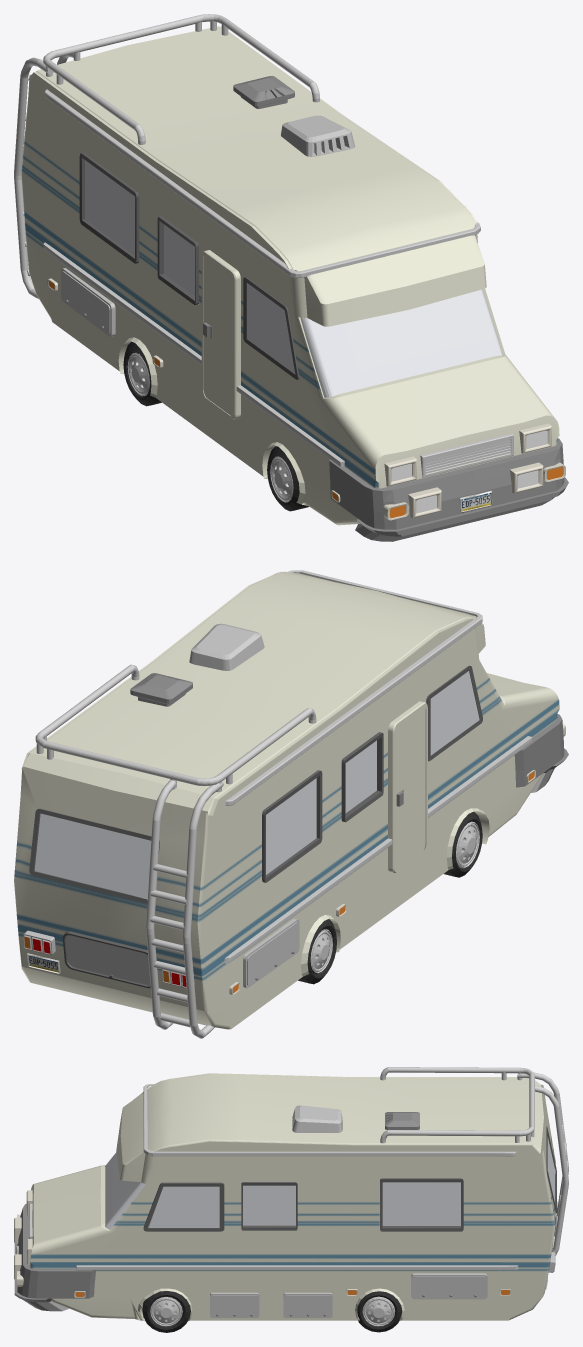
Rendered from ExportVan3.4.fbx.
3 renders of one model, top to bottom at view 1: azimuth 30°, elevation 25°; view 2: azimuth 150°, elevation 25°; view 3: azimuth 270°, elevation 25°, orthographic. The views are drawn at different scales.
Parts seen in each view (by area): view 1: bodycar2, pCube18, pCube3, pCube25, pCube54, pCylinder16, pCube22, pCube64, pCube23, pCube72, pCube16, pCylinder1 (+10 smaller); view 2: bodycar2, pCube21, pCube25, pCylinder16, pCube54, pCube34, pCube22, pCube64, pCube23, pCube72, pCylinder1, pCube3 (+13 smaller); view 3: bodycar2, pCube69, pCube3, pCube20, pCube26, pCube54, pCylinder16, pCube71, pCube51, pCube18, pCube72, pCube52 (+12 smaller).
Boxes of the visible parts, box(x1,y1,x2,y2) form: bodycar2: box(21, 26, 559, 525); pCube18: box(300, 289, 502, 397); pCube3: box(329, 438, 568, 541); pCube25: box(201, 250, 240, 419); pCube54: box(44, 89, 480, 278); pCylinder16: box(43, 14, 319, 144); pCube22: box(85, 160, 134, 255); pCube64: box(43, 242, 344, 467); pCube23: box(247, 283, 295, 373); pCube72: box(281, 115, 355, 156); pCube16: box(420, 433, 513, 477); pCylinder1: box(14, 57, 53, 298); bodycar2: box(14, 571, 559, 1029); pCube21: box(34, 813, 151, 898); pCube25: box(388, 701, 427, 872); pCylinder16: box(35, 664, 316, 785); pCube54: box(225, 570, 482, 805); pCube34: box(62, 931, 150, 988); pCube22: box(266, 778, 316, 874); pCube64: box(224, 736, 531, 963); pCube23: box(430, 671, 479, 755); pCube72: box(189, 623, 264, 670); pCylinder1: box(182, 781, 223, 1038); pCube3: box(514, 714, 568, 792); bodycar2: box(29, 1073, 555, 1321); pCube69: box(379, 1180, 460, 1228); pCube3: box(14, 1204, 95, 1311); pCube20: box(148, 1186, 219, 1227); pCube26: box(76, 1265, 518, 1270); pCube54: box(143, 1084, 516, 1156); pCylinder16: box(380, 1067, 534, 1143); pCube71: box(243, 1185, 295, 1225); pCube51: box(411, 1273, 487, 1299); pCube18: box(105, 1152, 145, 1229); pCube72: box(292, 1105, 342, 1132); pCube52: box(283, 1292, 332, 1317).
Bounding box in the file's own units: 63.69 × 84.2 × 207.
12 materials, 2 textured.
